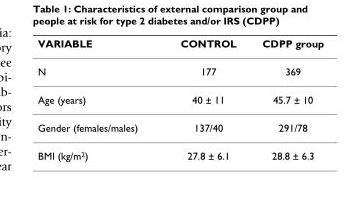table: (37, 36, 323, 161)
table column: (37, 36, 158, 161), (158, 36, 248, 161), (248, 36, 323, 161)
table column header: (37, 36, 323, 57)
table row: (37, 57, 323, 85), (37, 85, 323, 113), (37, 113, 323, 141), (37, 36, 323, 57), (37, 141, 323, 161)
